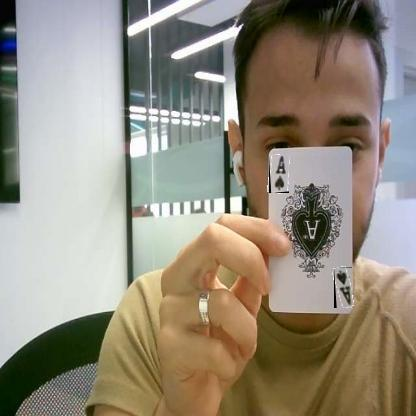AS: (269, 155, 289, 193), (334, 267, 352, 308)
